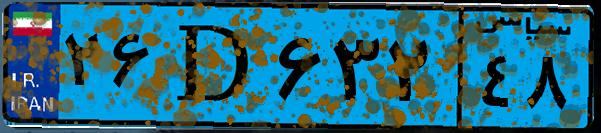2: (385, 28, 445, 110), (57, 26, 110, 100)
3: (330, 28, 385, 110)
4: (475, 38, 525, 113)
6: (270, 28, 330, 110), (110, 28, 158, 98)
8: (525, 38, 570, 115)
D: (158, 12, 270, 120)
